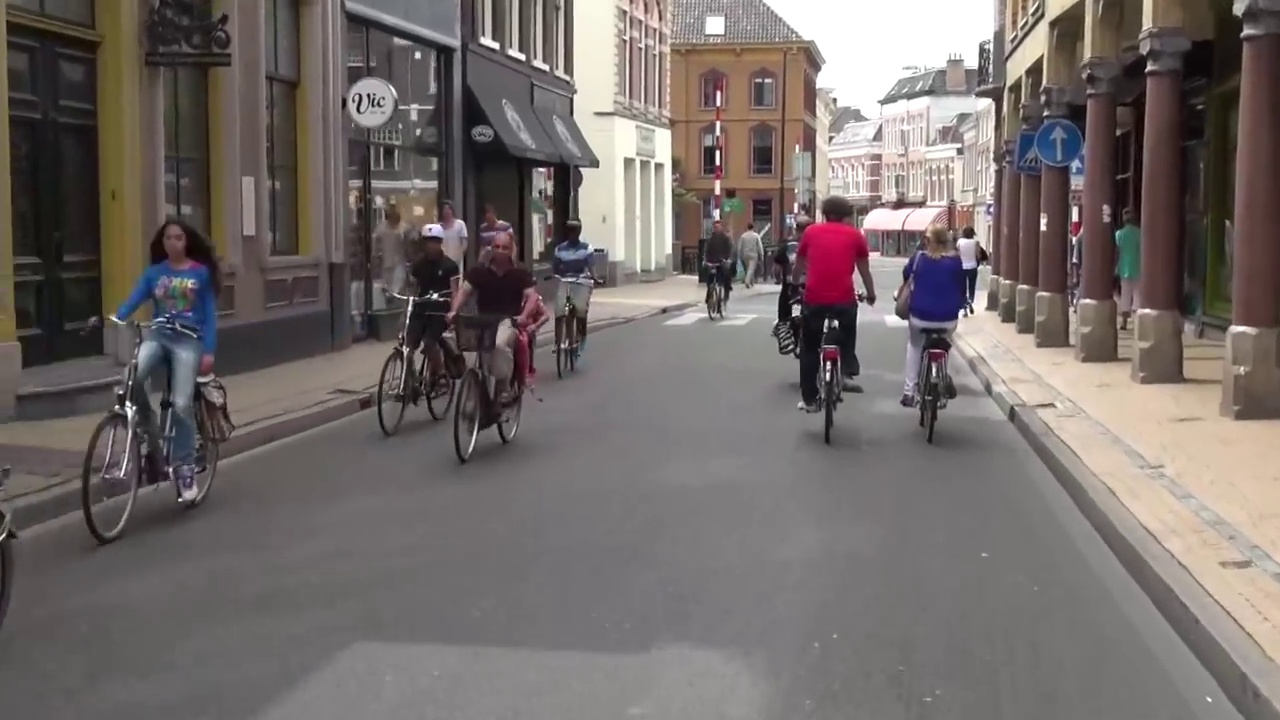cyclist_back: (785, 186, 876, 456), (892, 217, 964, 455)
cyclist_front: (76, 191, 228, 546), (449, 218, 531, 466), (378, 212, 460, 444), (549, 209, 591, 385), (696, 209, 735, 327)
